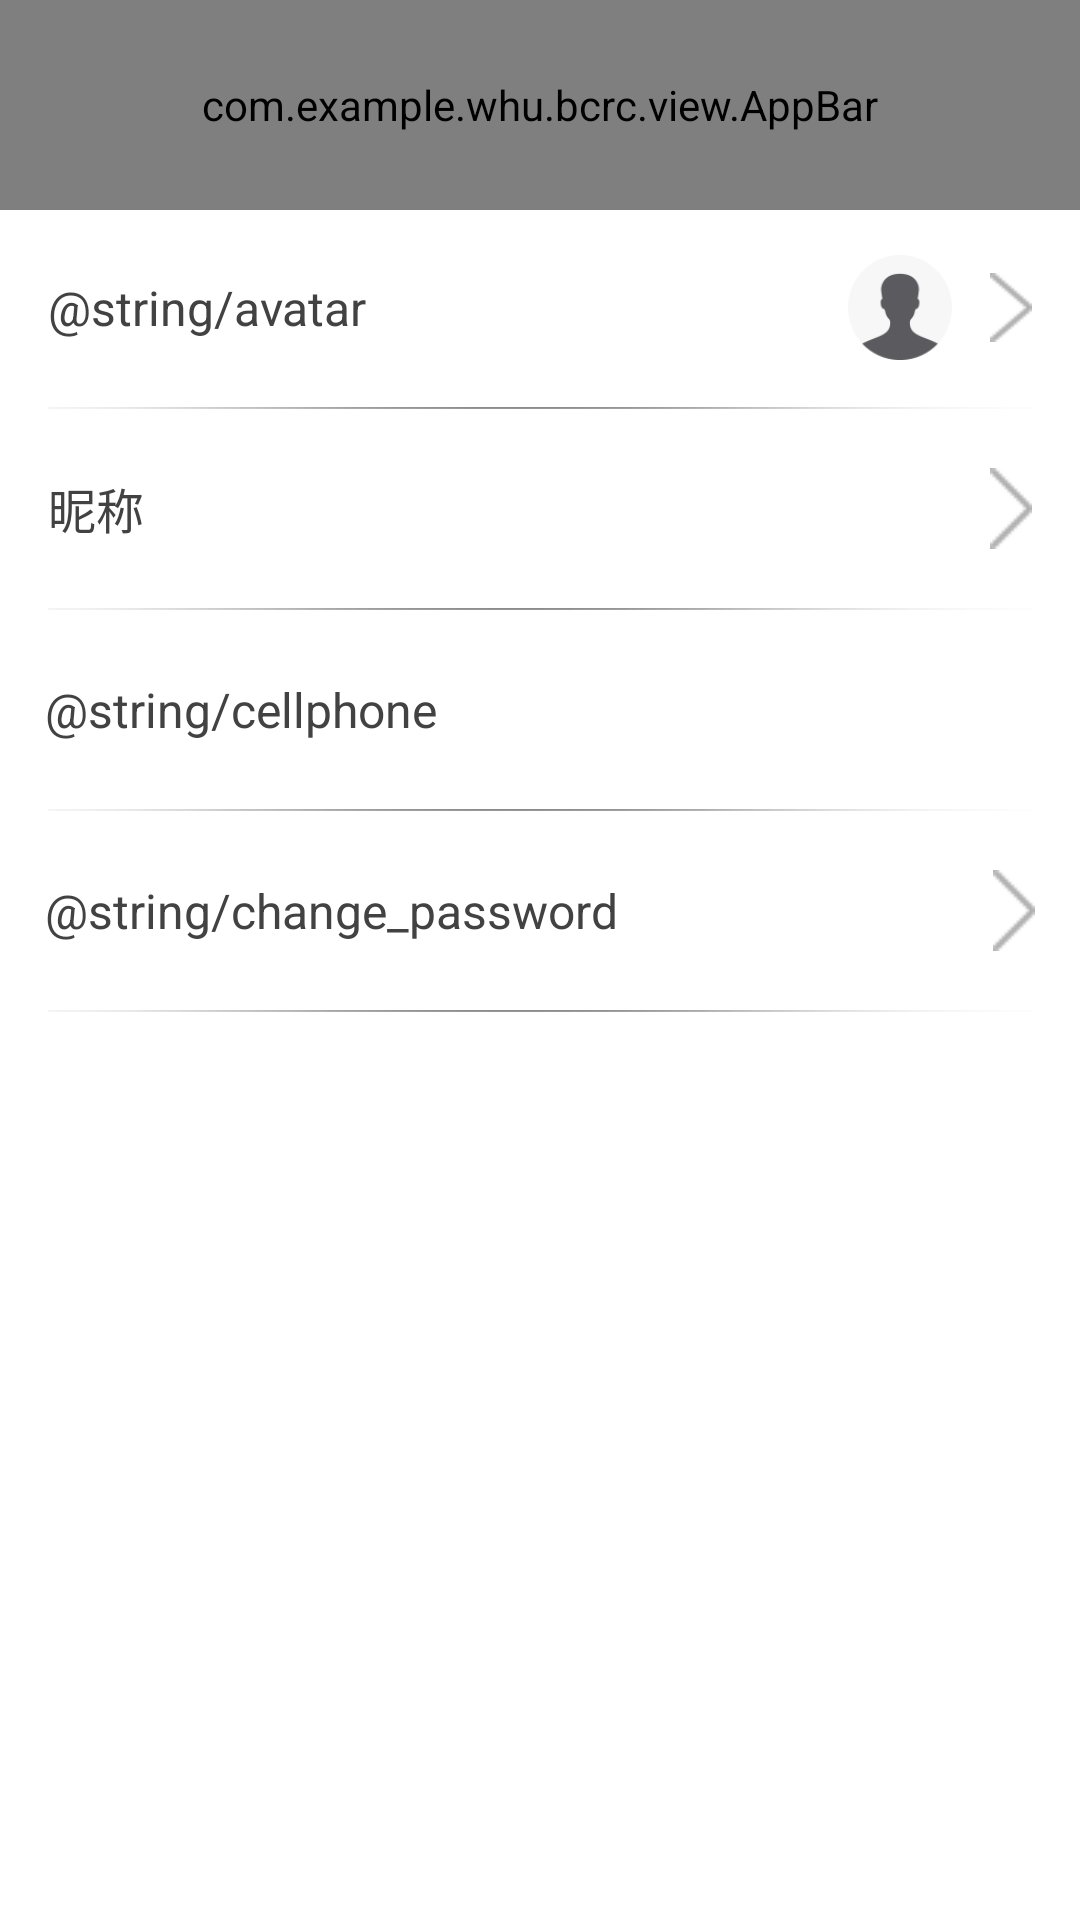

Icon bounding boxes for this 1080×1920 phone screenshot, format rect(x1, y1, x2, y2):
arrow: rect(990, 273, 1032, 342), rect(990, 468, 1032, 549), rect(993, 870, 1035, 951)
contact: rect(862, 273, 938, 360)
